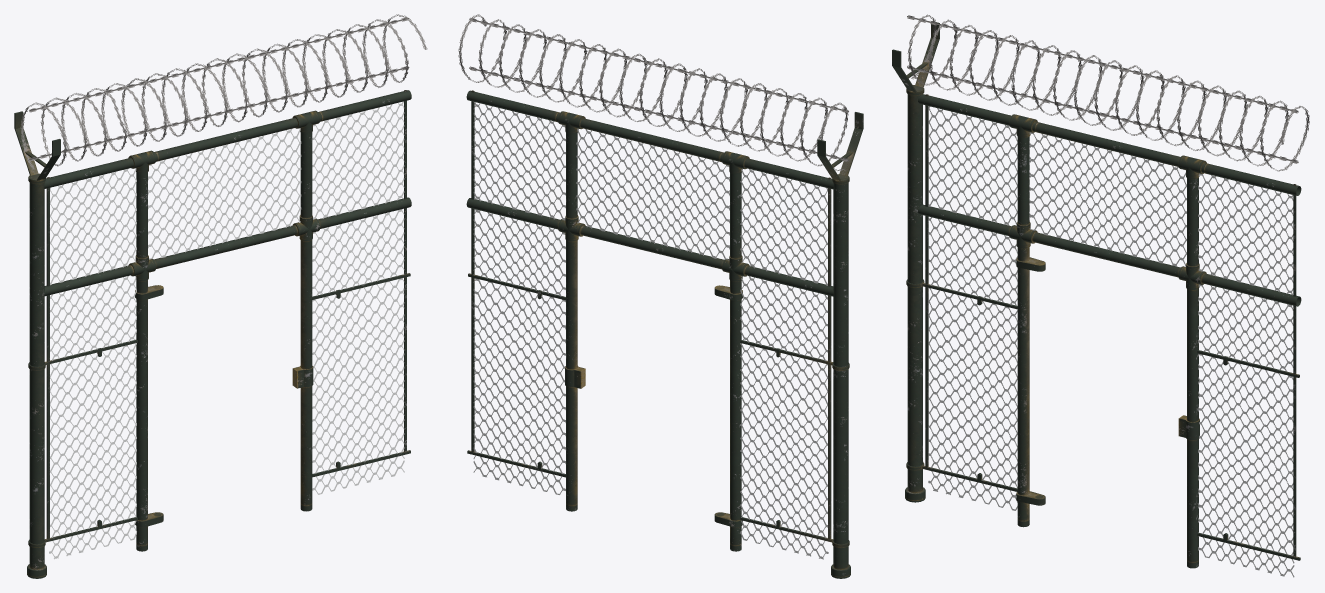
Rendered from SM_Fence_Exterior_GateFrame.fbx.
3 views of the same model, side by side, from view 1: azimuth 30°, elevation 25°; view 2: azimuth 150°, elevation 25°; view 3: azimuth 330°, elevation 25° (orthographic). The views are drawn at different scales.
Parts seen in each view (by area): view 1: SM_Fence_Exterior_GateFrame_LOD0; view 2: SM_Fence_Exterior_GateFrame_LOD0; view 3: SM_Fence_Exterior_GateFrame_LOD0.
Part boxes in pixels (bbox=[...]): SM_Fence_Exterior_GateFrame_LOD0: bbox=[14, 14, 427, 578]; SM_Fence_Exterior_GateFrame_LOD0: bbox=[458, 14, 863, 578]; SM_Fence_Exterior_GateFrame_LOD0: bbox=[892, 14, 1309, 577].
Size of the model in its own units: 353 by 61.5 by 412.
Materials: 1 (1 with a texture image).
